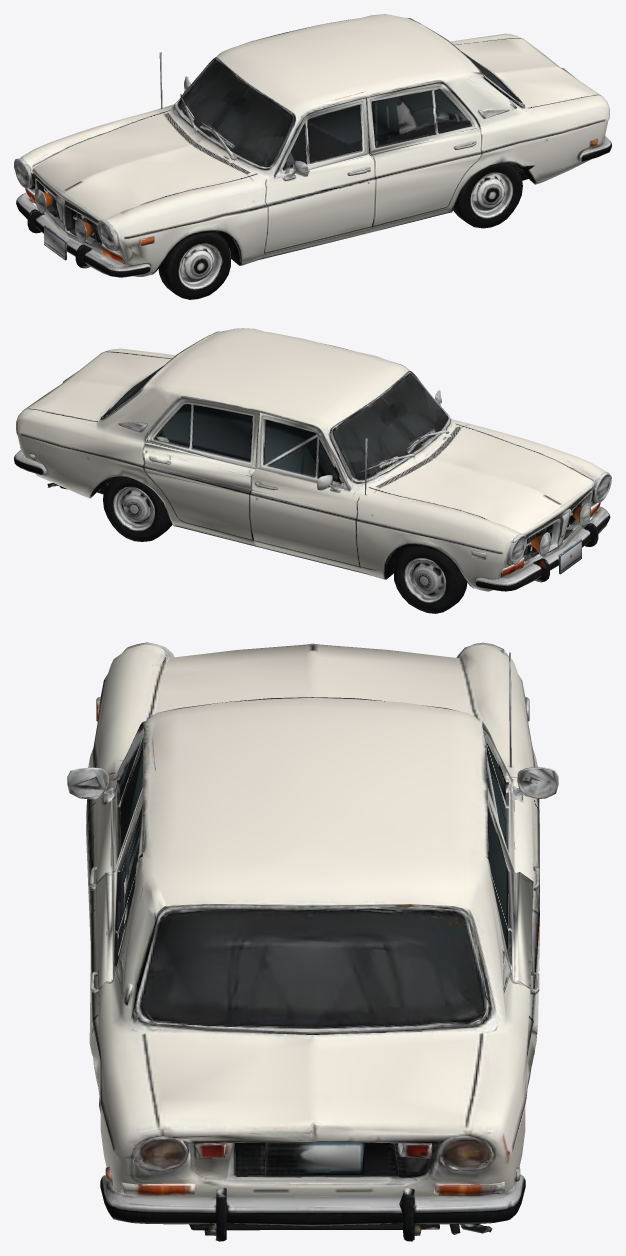
File: lada_car.glb
The picture shows the model from 3 angles, top to bottom: view 1: azimuth 30°, elevation 25°; view 2: azimuth 150°, elevation 25°; view 3: azimuth 270°, elevation 25°; orthographic projection. The views are drawn at different scales.
Size of the model in its own units: 0.9482 by 0.2837 by 0.3882.
Materials: 1 (1 with a texture image).
